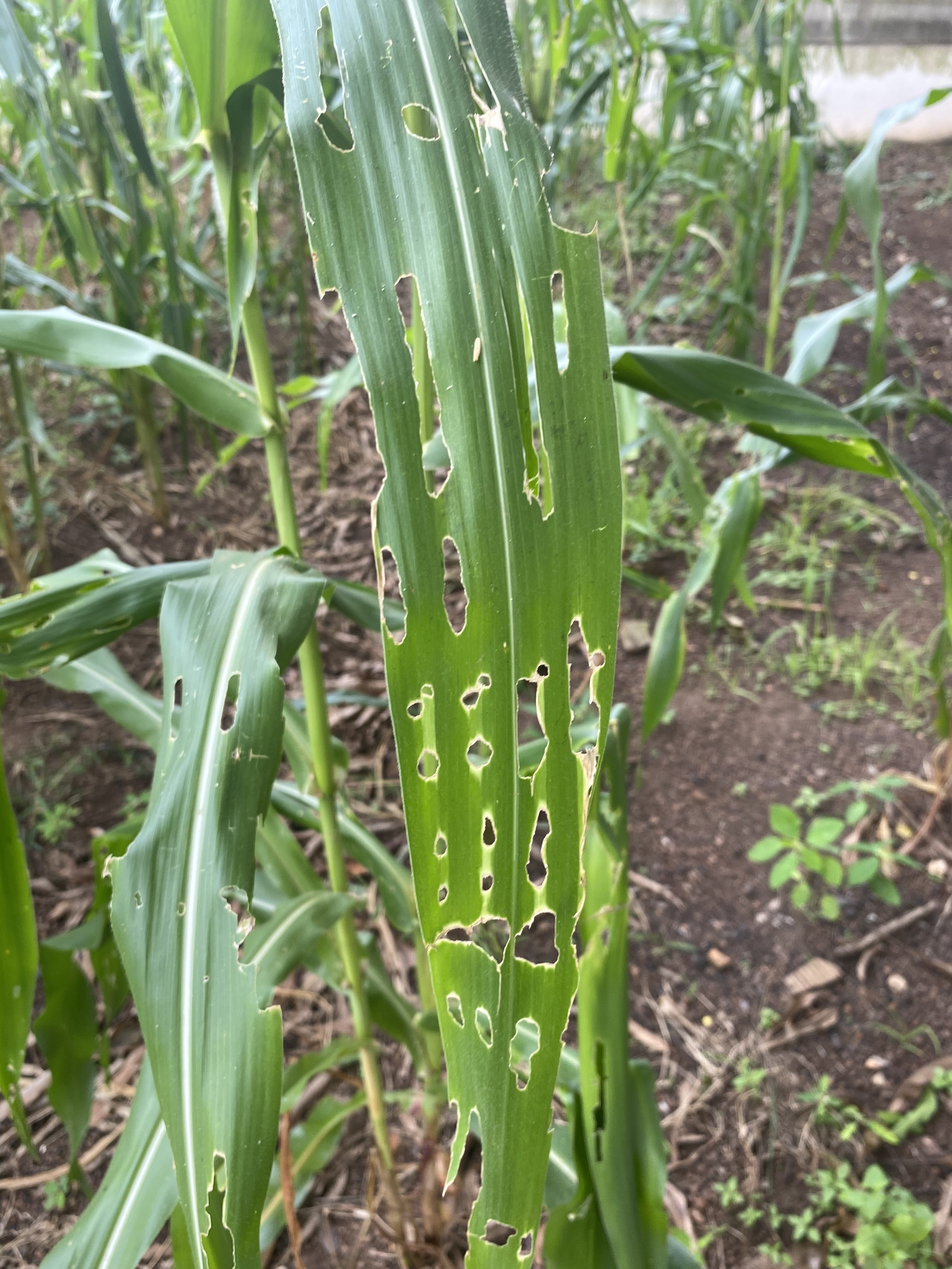severe: (385, 671, 668, 1269), (326, 238, 586, 646), (283, 17, 518, 192), (141, 1127, 238, 1269), (156, 665, 238, 776)
